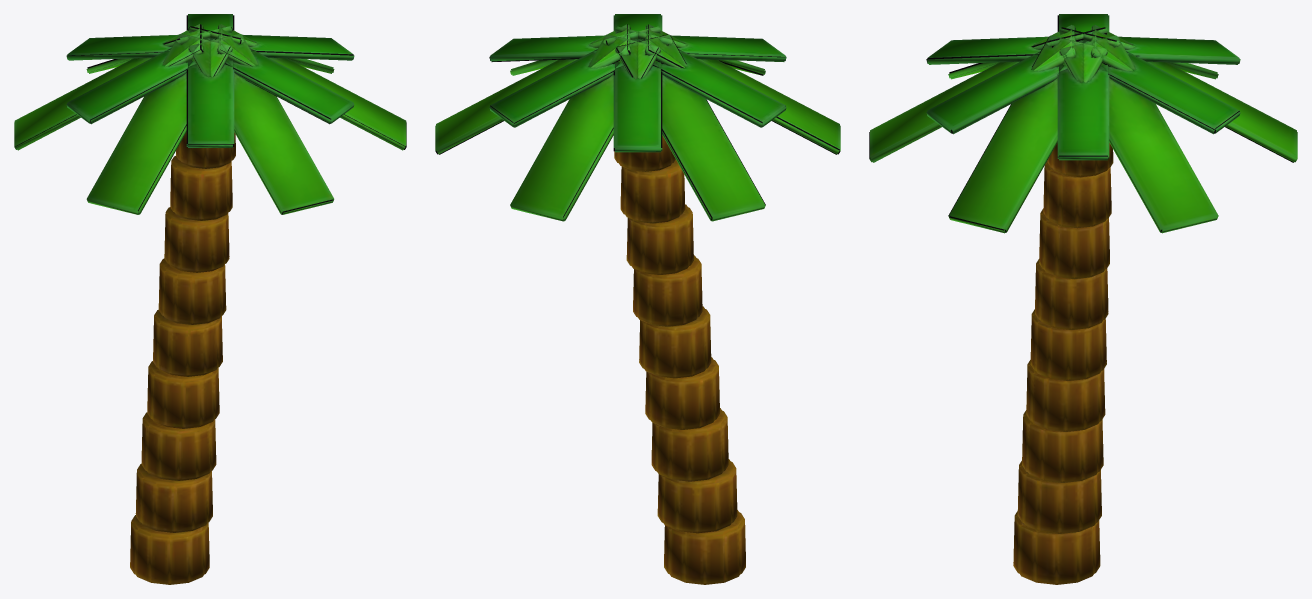
The model's file is PalmTree.glb.
3 views of the same model, side by side, from view 1: azimuth 30°, elevation 25°; view 2: azimuth 150°, elevation 25°; view 3: azimuth 270°, elevation 25° (orthographic). The views are drawn at different scales.
Visible parts, largest first — view 1: PalmTree; view 2: PalmTree; view 3: PalmTree.
Boxes of the visible parts, <box> form: PalmTree: <box>14,14,406,584</box>; PalmTree: <box>435,14,840,584</box>; PalmTree: <box>869,14,1297,584</box>.
Size of the model in its own units: 2.73 by 4.17 by 2.9.
Materials: 1 (1 with a texture image).
